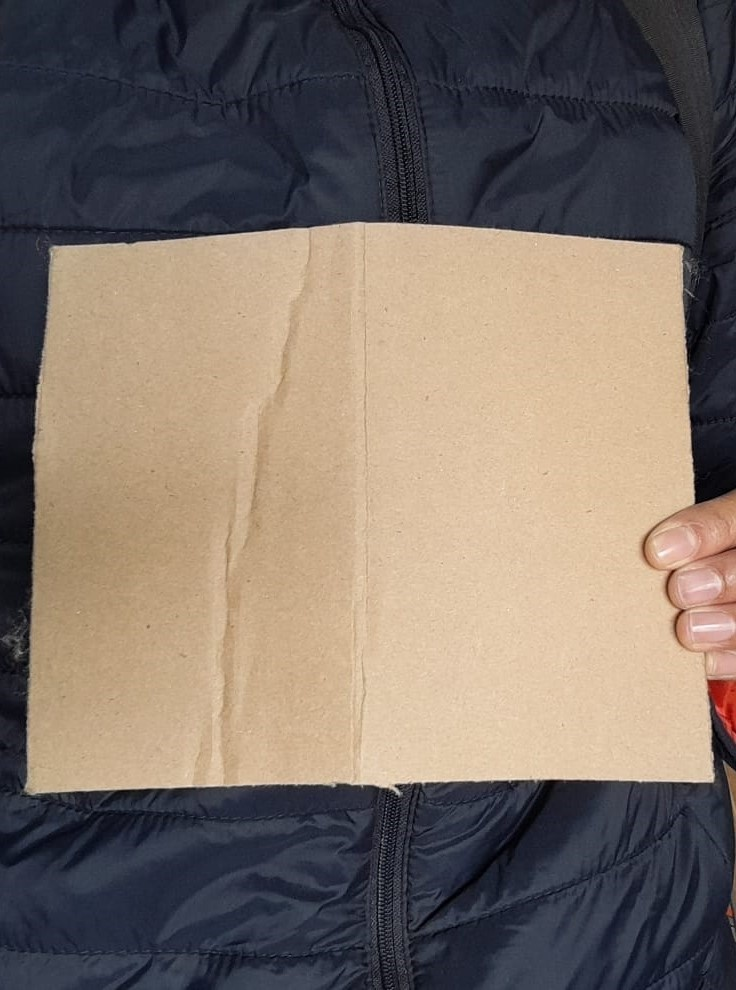Carton: (22, 222, 719, 795)
